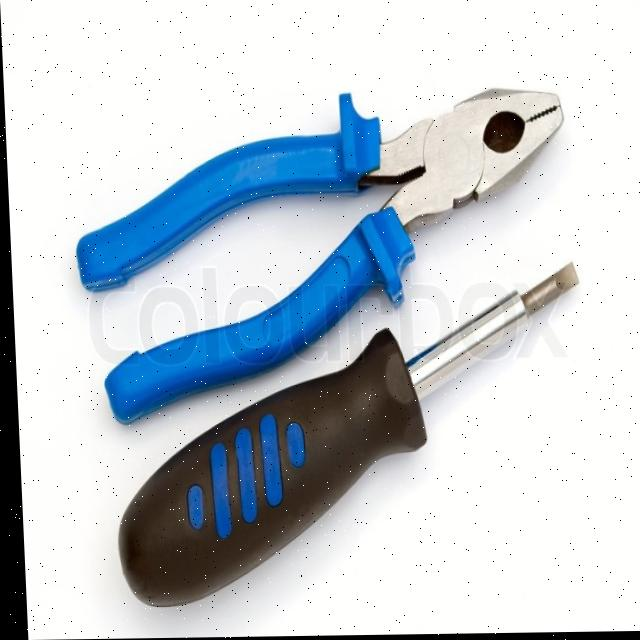Screwdriver: (114, 265, 575, 606)
